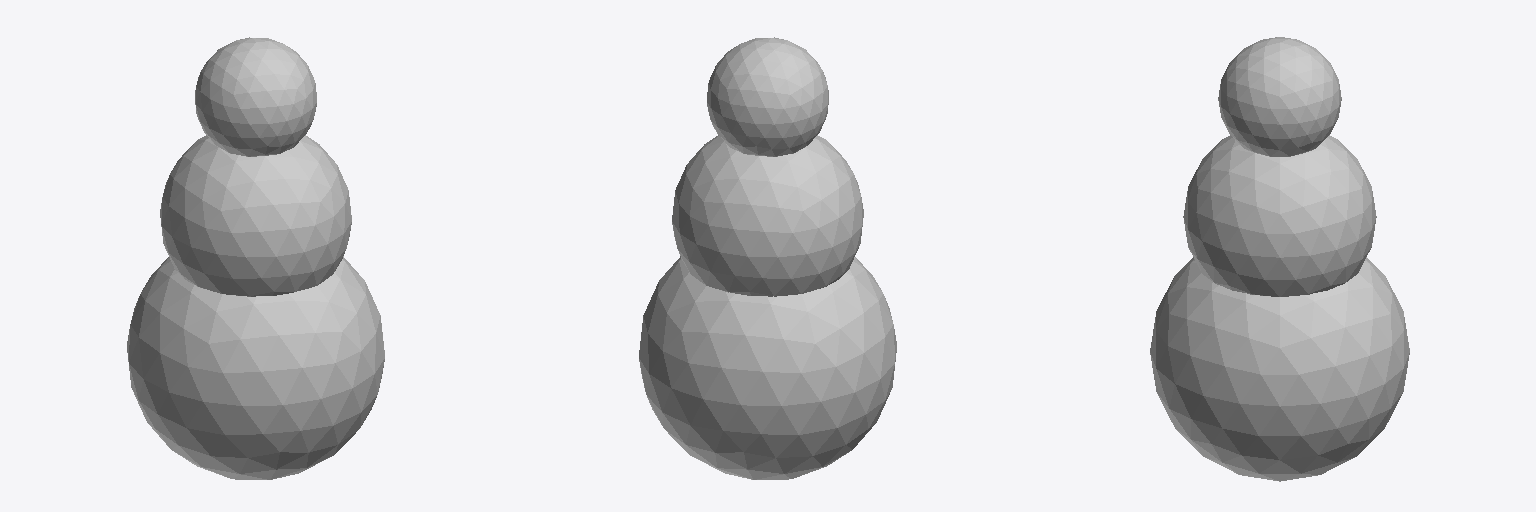
File: snowman.obj
3 renders of one model, left to right at view 1: azimuth 30°, elevation 25°; view 2: azimuth 150°, elevation 25°; view 3: azimuth 270°, elevation 25°, orthographic.
Parts seen in each view (by area): view 1: snowman_Icosphere.002; view 2: snowman_Icosphere.002; view 3: snowman_Icosphere.002.
Boxes of the visible parts, x1=… form: snowman_Icosphere.002: x1=127, y1=37, x2=384, y2=479; snowman_Icosphere.002: x1=639, y1=37, x2=896, y2=479; snowman_Icosphere.002: x1=1150, y1=37, x2=1409, y2=481.
Size of the model in its own units: 2 by 3.62 by 2.